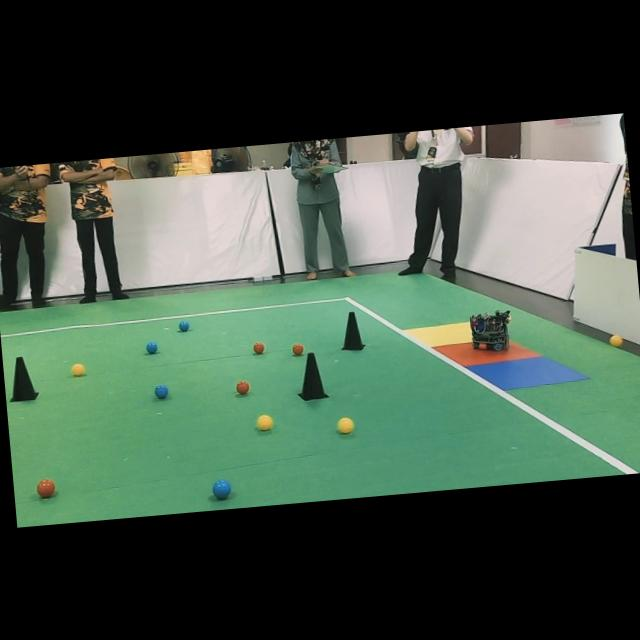ball: (212, 479, 231, 499), (36, 478, 54, 497), (256, 414, 273, 430), (337, 417, 354, 433), (235, 380, 250, 394), (154, 384, 168, 398), (609, 334, 623, 347), (71, 363, 85, 376), (145, 341, 158, 354), (291, 342, 304, 355), (252, 341, 265, 354), (179, 320, 188, 330)
goal: (468, 356, 587, 389), (434, 341, 541, 366), (404, 321, 472, 347)
